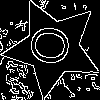O: (28, 23, 81, 70)
